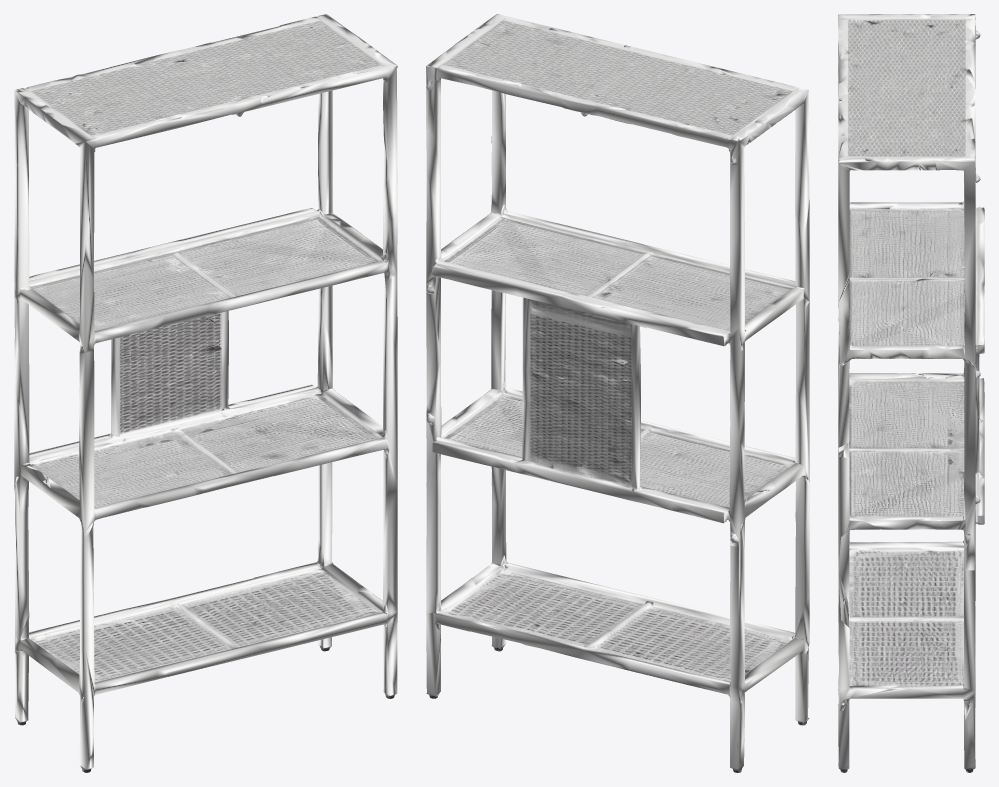
The model's file is meshy-ikea-50481172.glb.
The picture shows the model from 3 angles, left to right: view 1: azimuth 30°, elevation 25°; view 2: azimuth 150°, elevation 25°; view 3: azimuth 270°, elevation 25°; orthographic projection. The views are drawn at different scales.
Visible parts, largest first — view 1: Exact catalog scale: ikea-50481172; view 2: Exact catalog scale: ikea-50481172; view 3: Exact catalog scale: ikea-50481172.
Part boxes in pixels (<box>): Exact catalog scale: ikea-50481172: <box>14,14,397,772</box>; Exact catalog scale: ikea-50481172: <box>426,14,809,772</box>; Exact catalog scale: ikea-50481172: <box>838,14,984,772</box>.
Bounding box in the file's own units: 0.6 × 1.16 × 0.251.
1 material, 1 textured.
